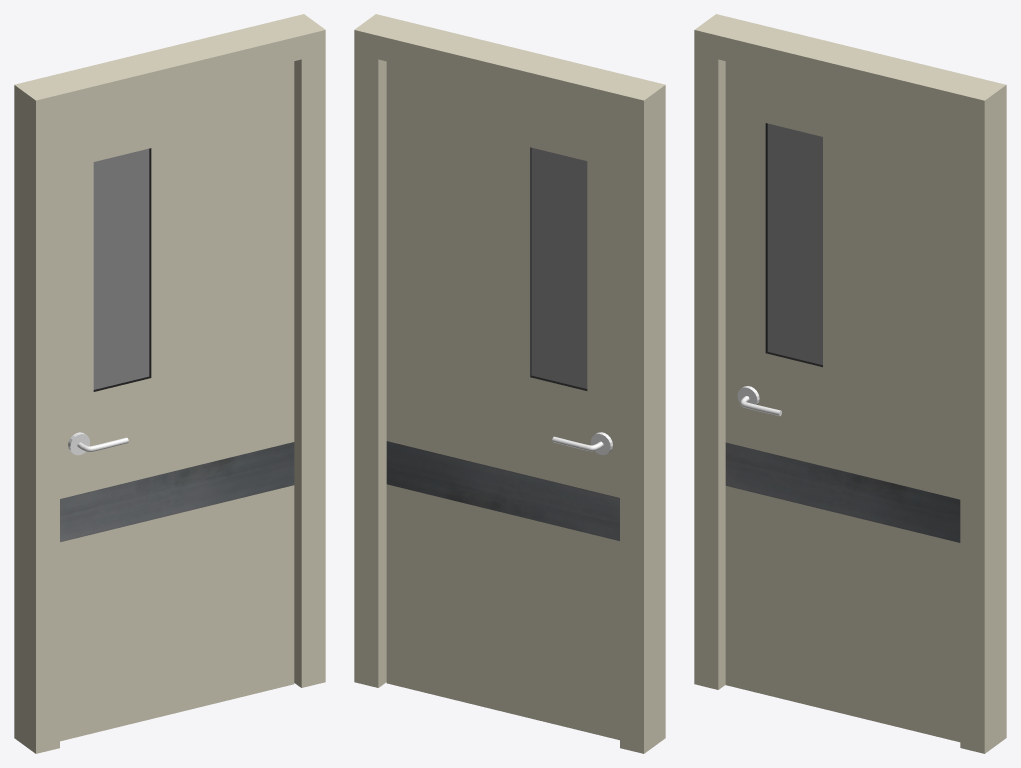
Rendered from Door 1.fbx.
3 renders of one model, left to right at view 1: azimuth 30°, elevation 25°; view 2: azimuth 150°, elevation 25°; view 3: azimuth 330°, elevation 25°, orthographic.
Parts seen in each view (by area): view 1: Door, door frame; view 2: Door, door frame; view 3: Door, door frame.
Part boxes in pixels (bbox=[...]): Door: bbox=[60, 61, 294, 741]; door frame: bbox=[14, 14, 325, 753]; Door: bbox=[386, 61, 619, 740]; door frame: bbox=[354, 14, 665, 753]; Door: bbox=[725, 61, 960, 742]; door frame: bbox=[694, 14, 1006, 753].
Bounding box in the file's own units: 96.56 × 208 × 16.82.
3 materials, 1 textured.
